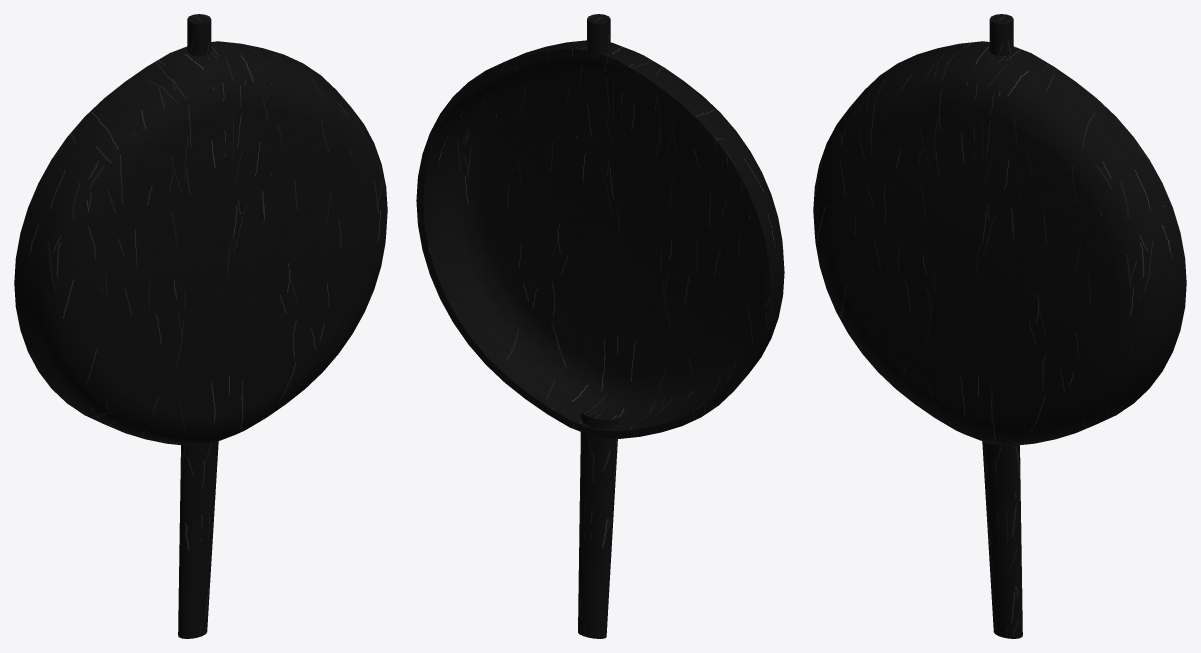
The model's file is frying_pan.glb.
3 renders of one model, left to right at view 1: azimuth 30°, elevation 25°; view 2: azimuth 150°, elevation 25°; view 3: azimuth 330°, elevation 25°, orthographic.
Visible parts, largest first — view 1: FryingPan_Clean_iron; view 2: FryingPan_Clean_iron; view 3: FryingPan_Clean_iron.
Boxes of the visible parts, x1=… form: FryingPan_Clean_iron: x1=14, y1=14, x2=387, y2=638; FryingPan_Clean_iron: x1=416, y1=14, x2=784, y2=638; FryingPan_Clean_iron: x1=813, y1=14, x2=1186, y2=638.
Size of the model in its own units: 0.312 by 0.5145 by 0.057.
Materials: 1 (1 with a texture image).
